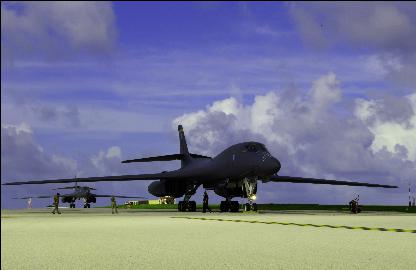AV8B: (1, 123, 398, 211), (8, 174, 146, 206)
